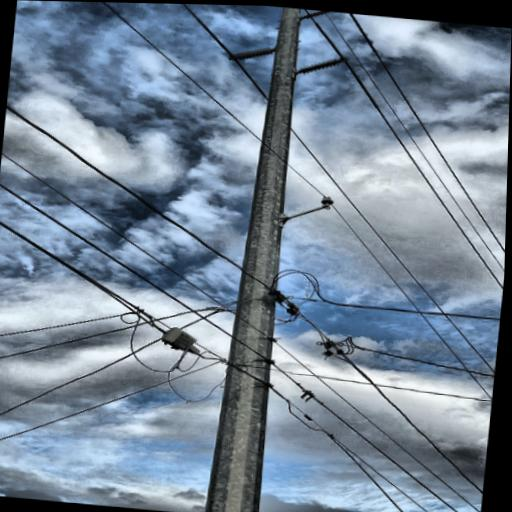pole: (187, 4, 317, 512)
